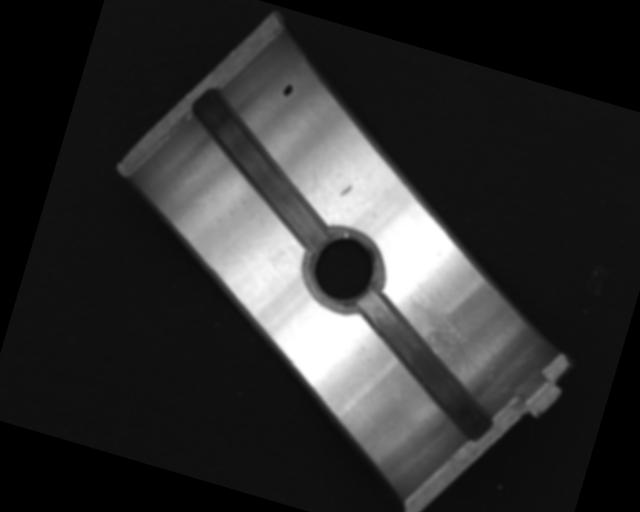blot: (281, 82, 294, 99)
bruise: (339, 183, 354, 199)
gap: (170, 89, 352, 251), (332, 289, 514, 446)
hole: (294, 220, 391, 320)
scratch: (388, 291, 493, 380)
